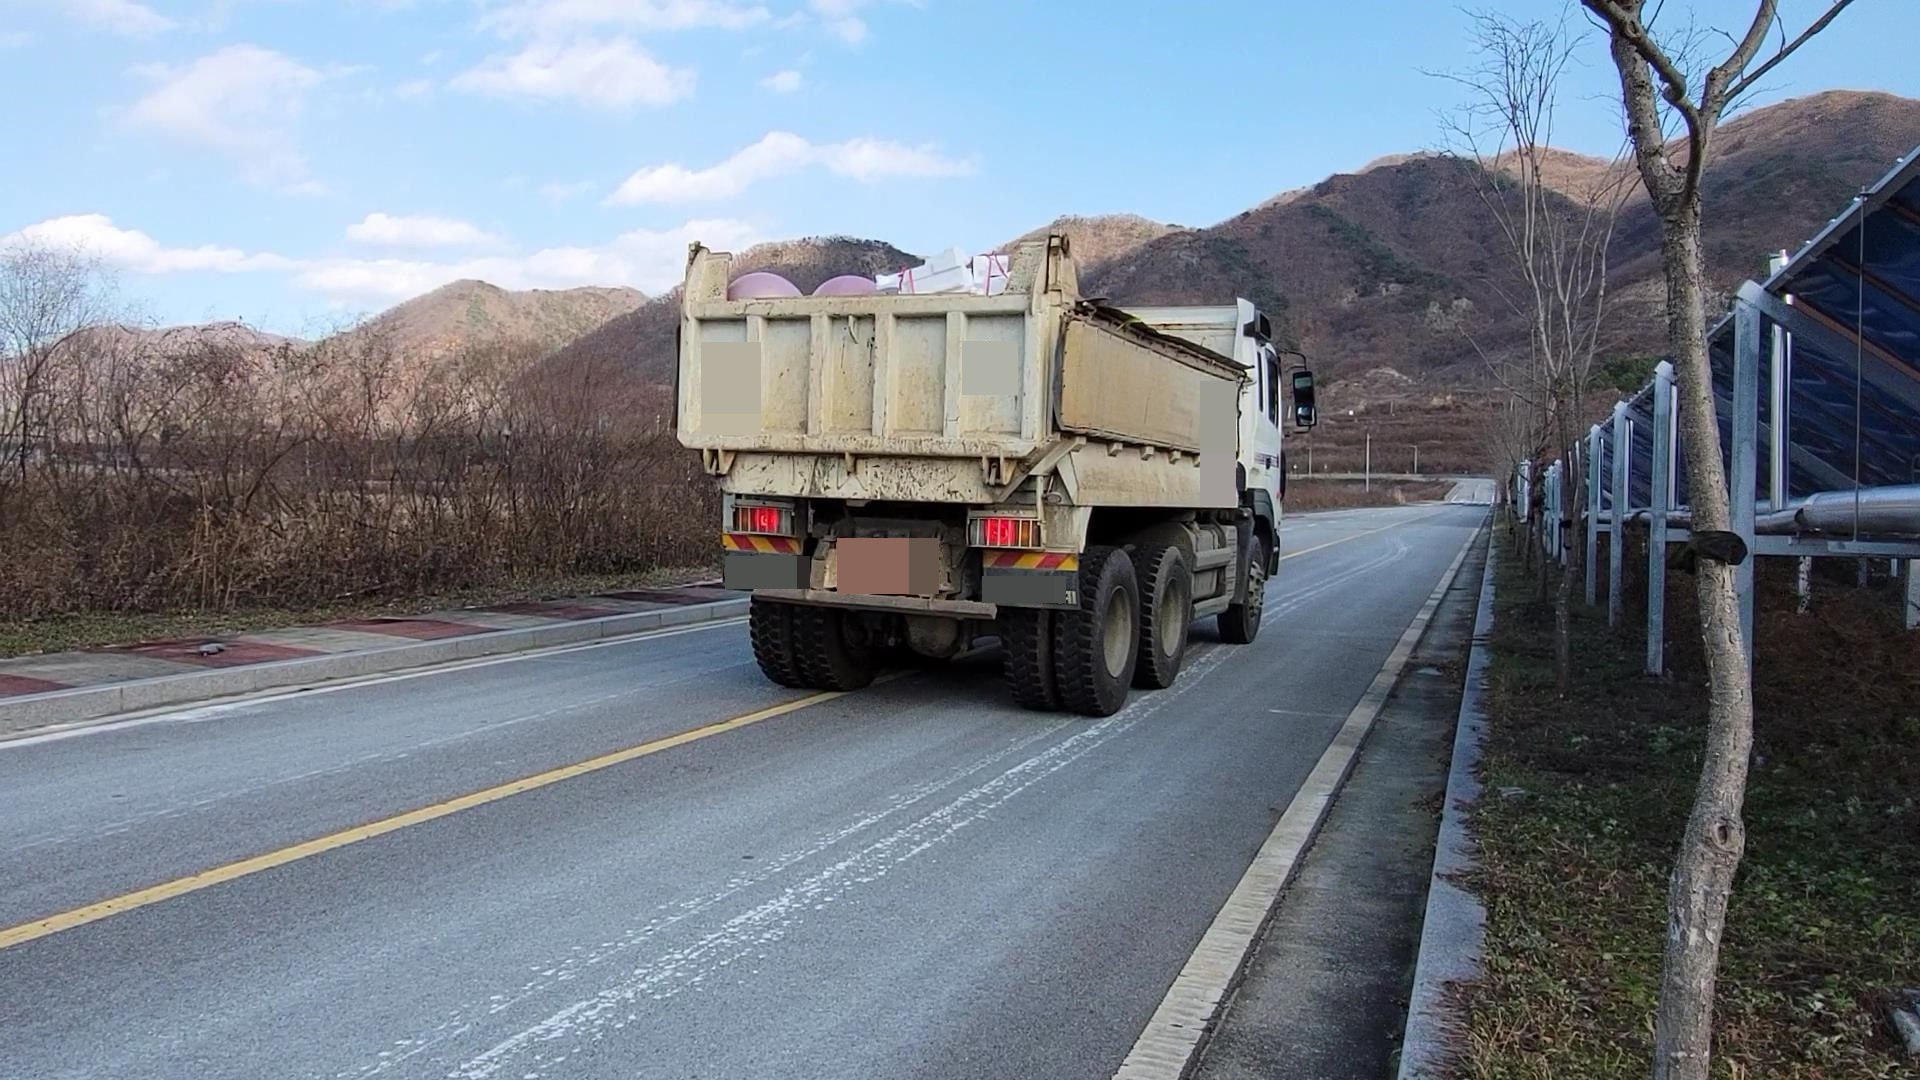불법차량: (670, 233, 1317, 717)
